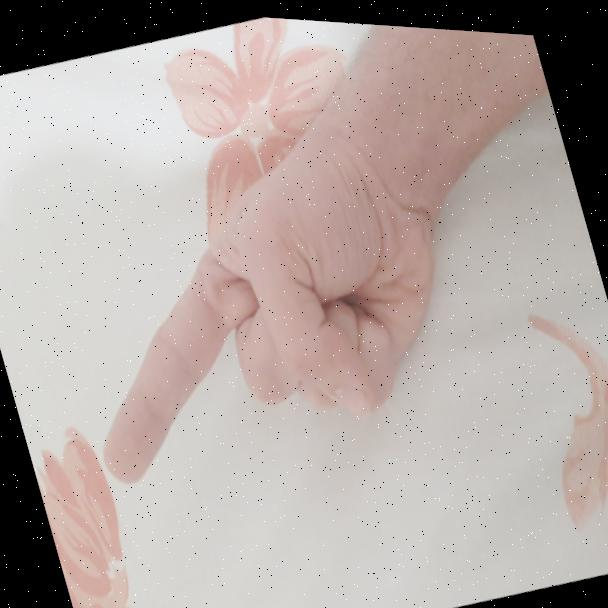one: (5, 25, 504, 525)
